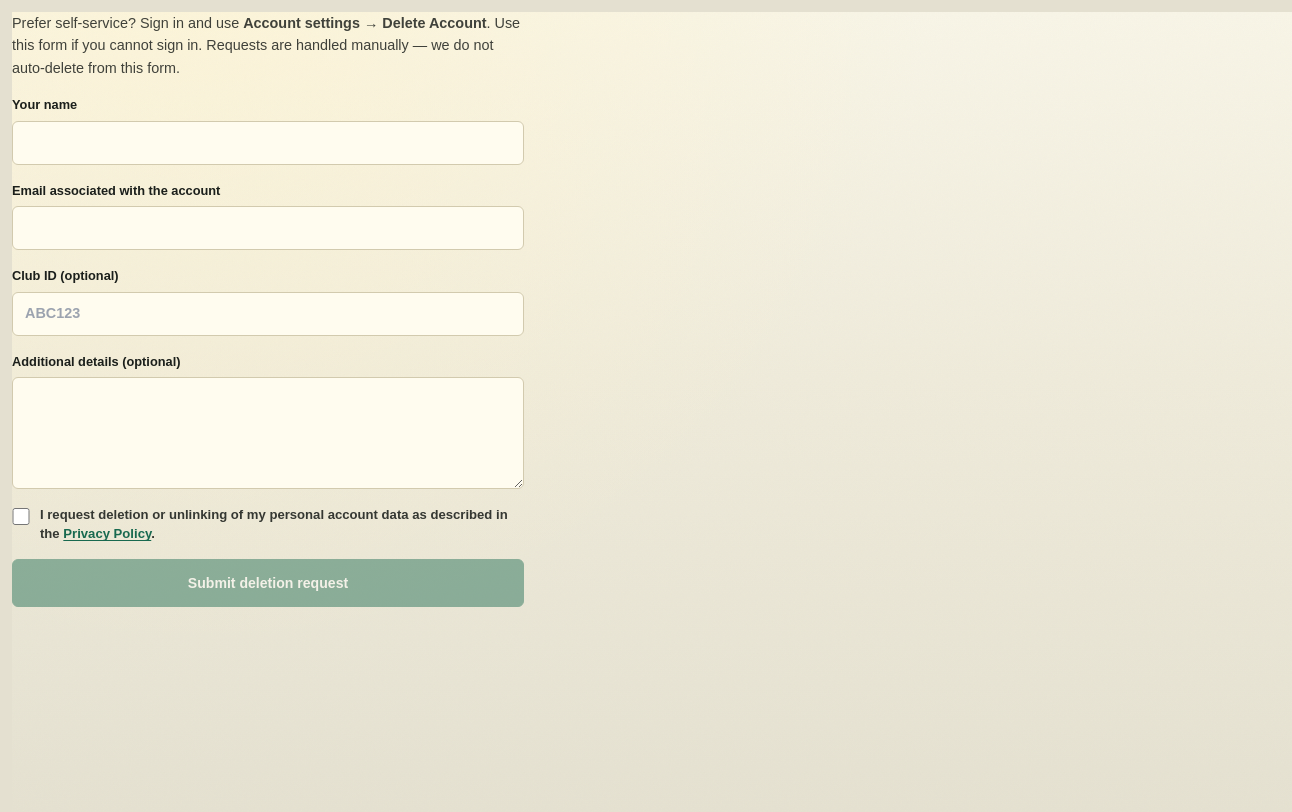
Test: data deletion form › requires confirmation before submit is enabled
Expected: the button "Submit deletion request" is disabled, top-left (12, 559), bottom-right (524, 607)
What coordinates should you click on to do the following:
click the checkbox
I would click on:
 (21, 516)
Its box is top-left (12, 508), bottom-right (30, 525).
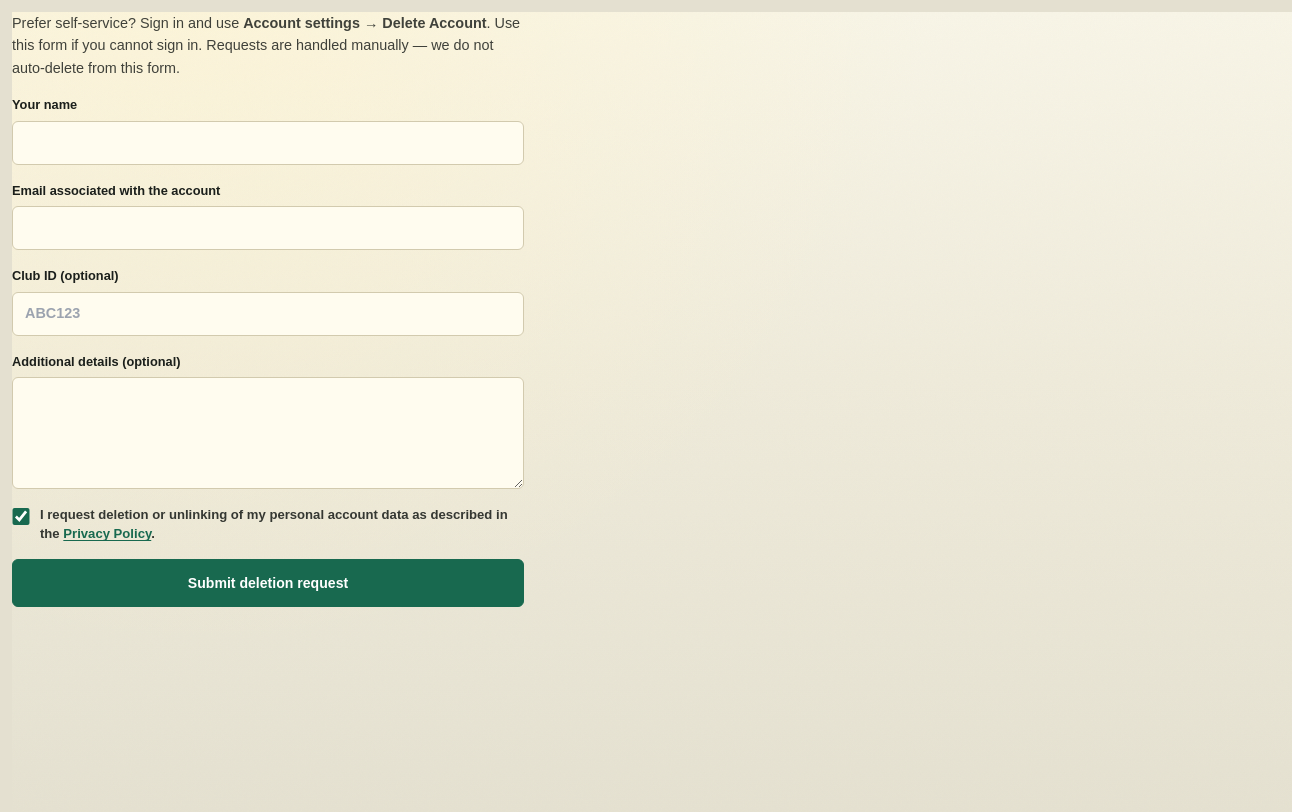
Expected: the button "Submit deletion request" is enabled, top-left (12, 559), bottom-right (524, 607)
